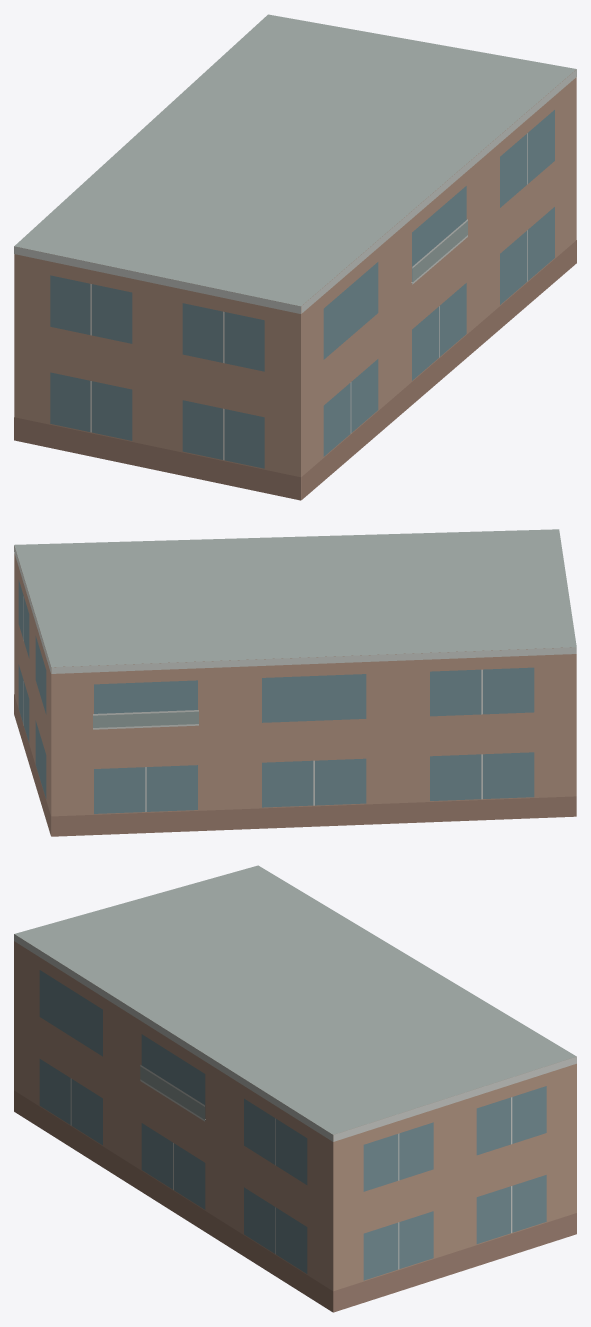
File: survey-upis-32799800.glb
3 renders of one model, top to bottom at view 1: azimuth 30°, elevation 25°; view 2: azimuth 150°, elevation 25°; view 3: azimuth 270°, elevation 25°, orthographic. The views are drawn at different scales.
Visible parts, largest first — view 1: survey-upis-32799800.tmp; view 2: survey-upis-32799800.tmp; view 3: survey-upis-32799800.tmp.
Boxes of the visible parts, x1,y1,x2,y2 form: survey-upis-32799800.tmp: [14, 14, 576, 500]; survey-upis-32799800.tmp: [14, 529, 576, 836]; survey-upis-32799800.tmp: [14, 865, 576, 1312].
Size of the model in its own units: 19.86 by 6.1 by 17.52.
